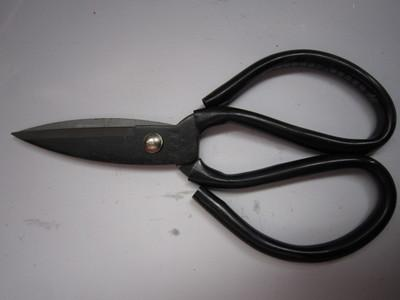scissor: (11, 49, 397, 261)
